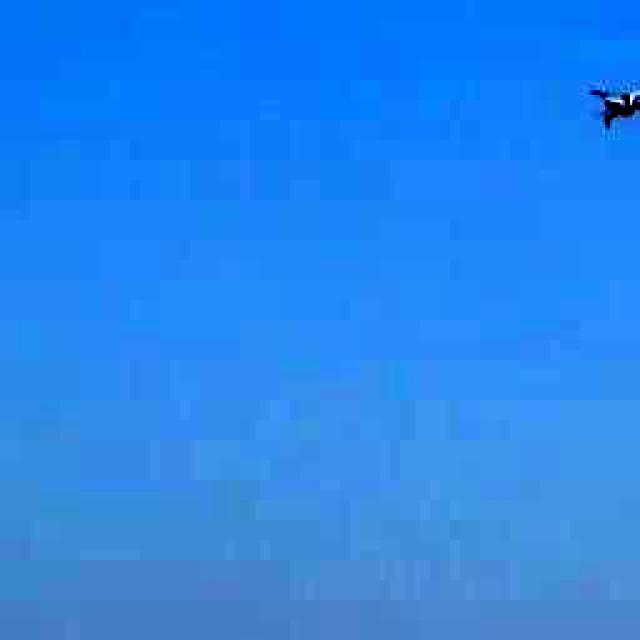bird: (598, 81, 640, 134)
